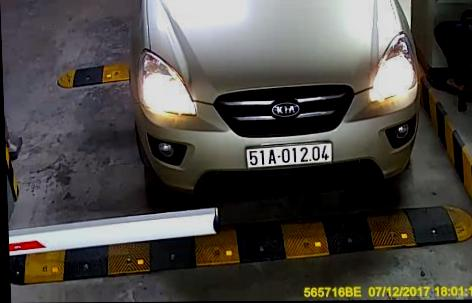License_Plate: (242, 142, 337, 169)
